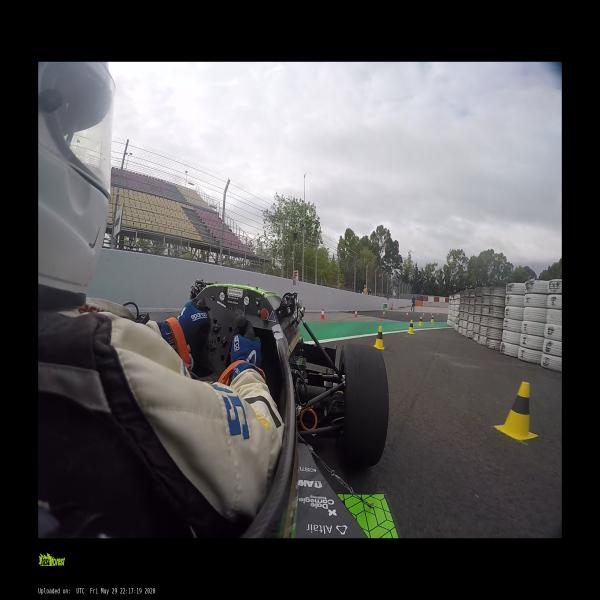orange_cone: (319, 308, 325, 320), (355, 310, 358, 318), (405, 312, 409, 318), (382, 310, 385, 316)
yellow_cone: (496, 382, 538, 440), (374, 326, 384, 346), (407, 319, 414, 335), (430, 314, 434, 323), (418, 316, 422, 325)
